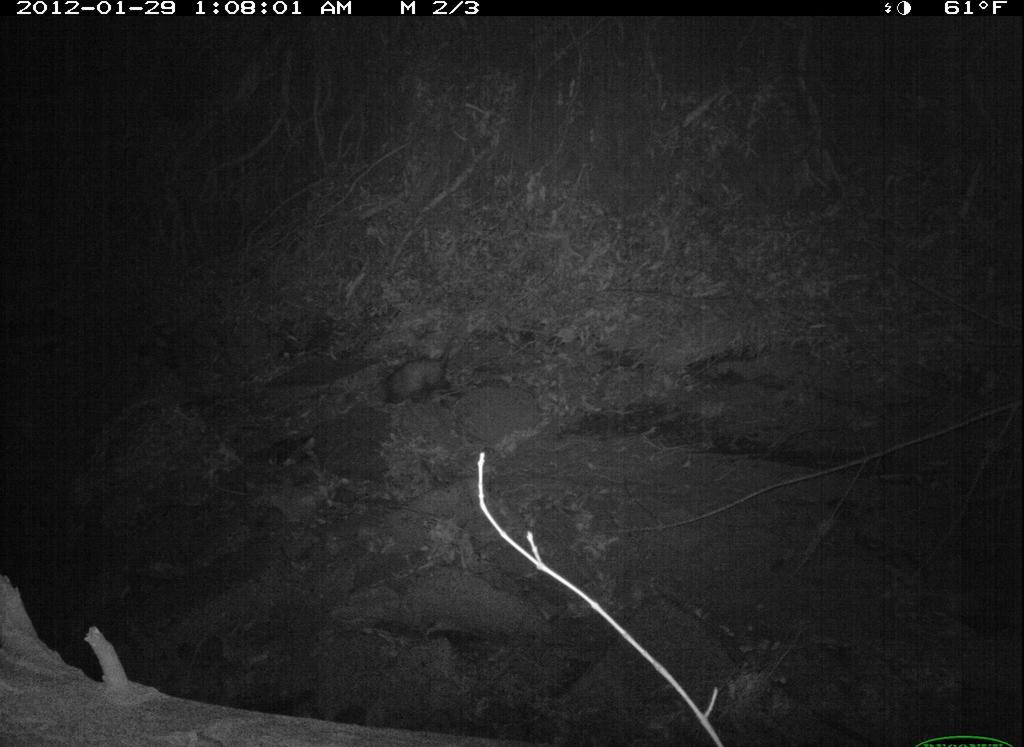opossum: (363, 329, 475, 415)
